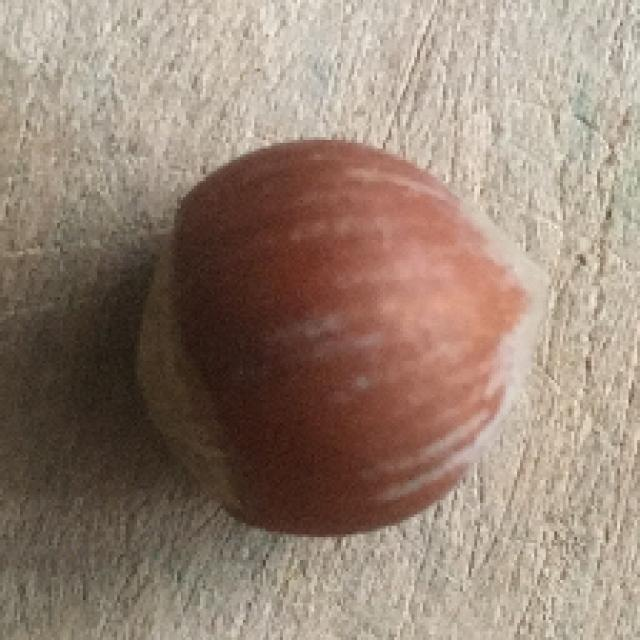qualityHazelnut: (144, 139, 554, 535)
